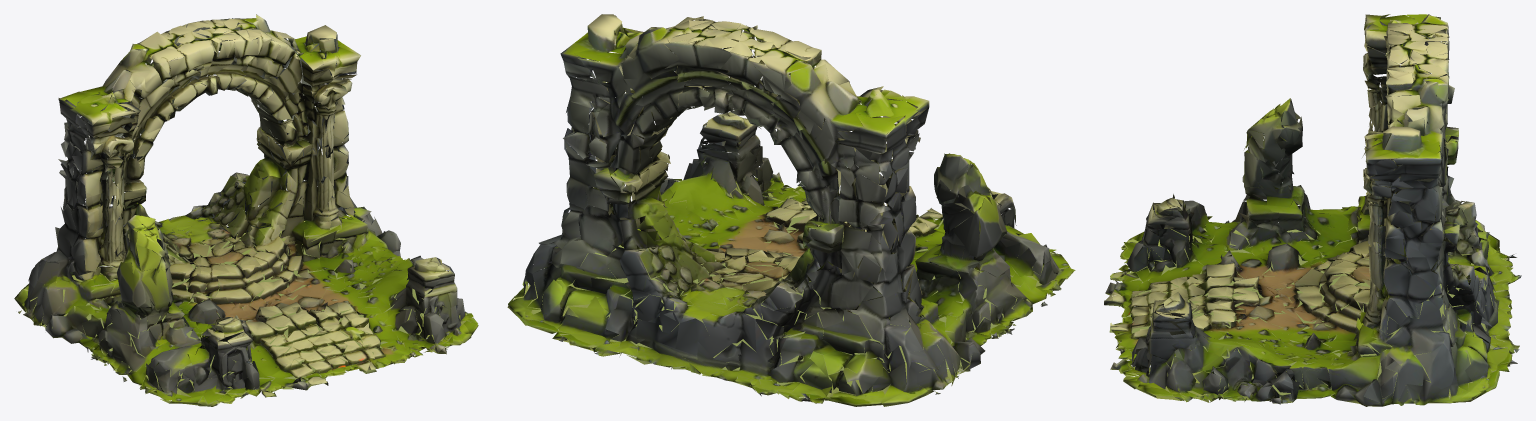
The model's file is Ancient_Gateway_Ruins_town.glb.
The picture shows the model from 3 angles, left to right: view 1: azimuth 30°, elevation 25°; view 2: azimuth 150°, elevation 25°; view 3: azimuth 270°, elevation 25°; orthographic projection. The views are drawn at different scales.
Parts seen in each view (by area): view 1: Ancient_Gateway_Ruins; view 2: Ancient_Gateway_Ruins; view 3: Ancient_Gateway_Ruins.
Part boxes in pixels (x1,y1,x2,y2): Ancient_Gateway_Ruins: (14, 14, 478, 406); Ancient_Gateway_Ruins: (507, 14, 1075, 406); Ancient_Gateway_Ruins: (1104, 14, 1521, 406).
Bounding box in the file's own units: 1.91 × 1.29 × 1.79.
1 material, 1 textured.
